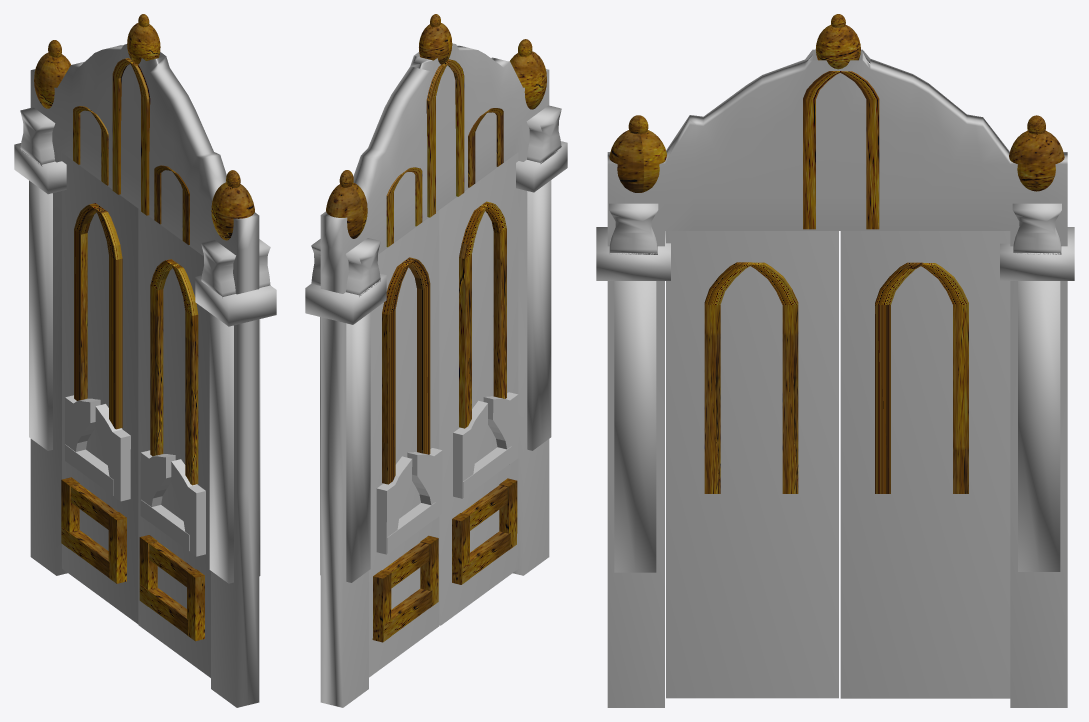
The model's file is porta funcional texturizada teste.fbx.
The picture shows the model from 3 angles, left to right: view 1: azimuth 30°, elevation 25°; view 2: azimuth 150°, elevation 25°; view 3: azimuth 270°, elevation 25°; orthographic projection. The views are drawn at different scales.
Parts seen in each view (by area): view 1: Cubo, Cubo.002, Cubo.001, Cubo.012, Cubo.014, Cubo.007, Cubo.008, Cubo.004, Cubo.006, Cubo.005, Cubo.003, Cubo.009 (+5 smaller); view 2: Cubo, Cubo.001, Cubo.002, Cubo.014, Cubo.012, Cubo.007, Cubo.008, Cubo.004, Cubo.006, Cubo.005, Cubo.003, Cubo.009 (+5 smaller); view 3: Cubo, Cubo.001, Cubo.002, Cubo.012, Cubo.014, Cubo.008, Cubo.007, Cubo.009, Esfera UV.003, Esfera UV.002, Esfera UV.001.
Boxes of the visible parts, x1,y1,x2,y2 form: Cubo: (30,44,259,707); Cubo.002: (62,153,138,623); Cubo.001: (138,209,210,677); Cubo.012: (195,239,276,583); Cubo.014: (14,107,66,450); Cubo.007: (74,203,122,429); Cubo.008: (150,259,198,485); Cubo.004: (65,395,130,501); Cubo.006: (140,450,205,556); Cubo.005: (61,477,126,583); Cubo.003: (139,535,204,641); Cubo.009: (112,58,150,215); Cubo: (320,43,549,707); Cubo.001: (439,152,518,625); Cubo.002: (369,210,439,677); Cubo.014: (305,238,386,582); Cubo.012: (516,105,567,450); Cubo.007: (382,257,430,484); Cubo.008: (459,201,506,428); Cubo.004: (376,448,442,554); Cubo.006: (453,392,518,498); Cubo.005: (372,535,438,642); Cubo.003: (452,478,517,584); Cubo.009: (426,59,464,217); Cubo: (607,49,1067,707); Cubo.001: (666,231,838,698); Cubo.002: (840,231,1010,698); Cubo.012: (596,203,670,572); Cubo.014: (1000,203,1074,571); Cubo.008: (704,262,798,493); Cubo.007: (875,262,968,493); Cubo.009: (803,71,879,229); Esfera UV.003: (609,115,666,192); Esfera UV.002: (1009,115,1064,191); Esfera UV.001: (815,14,860,69).
Bounding box in the file's own units: 91.81 × 1131 × 714.
